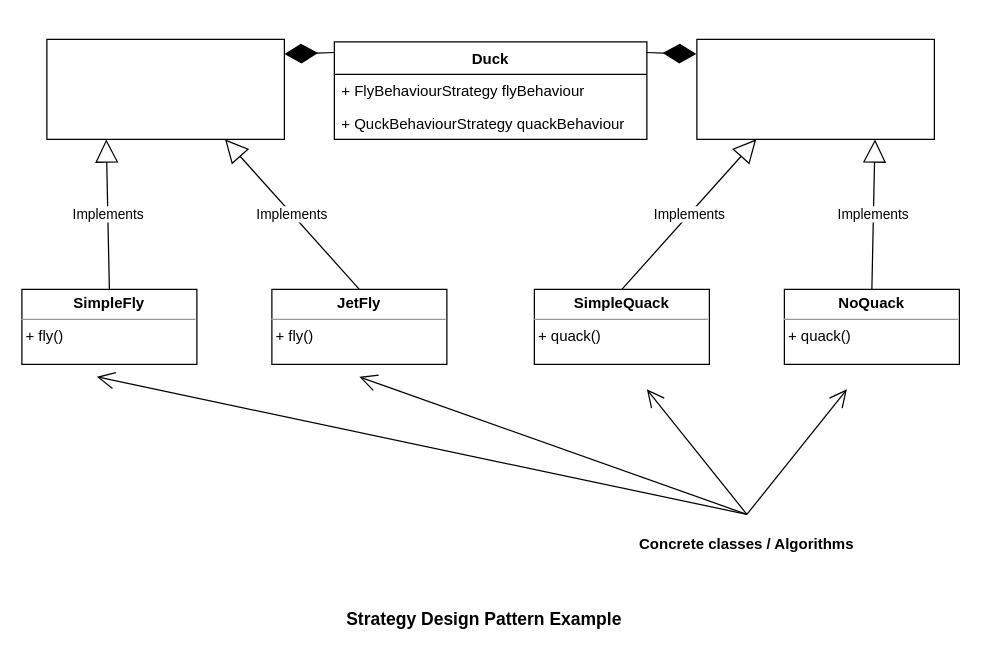
This 981x656 diagram has some shape labels left out. The centre of each missing label's shape, as x and y in pixels:
"<<Interface>> FlyBehaviourStrategy + fly()" belongs at [165,88].
"<<Interface>> QuackBehaviourStrategy + quack()" belongs at [815,88].
